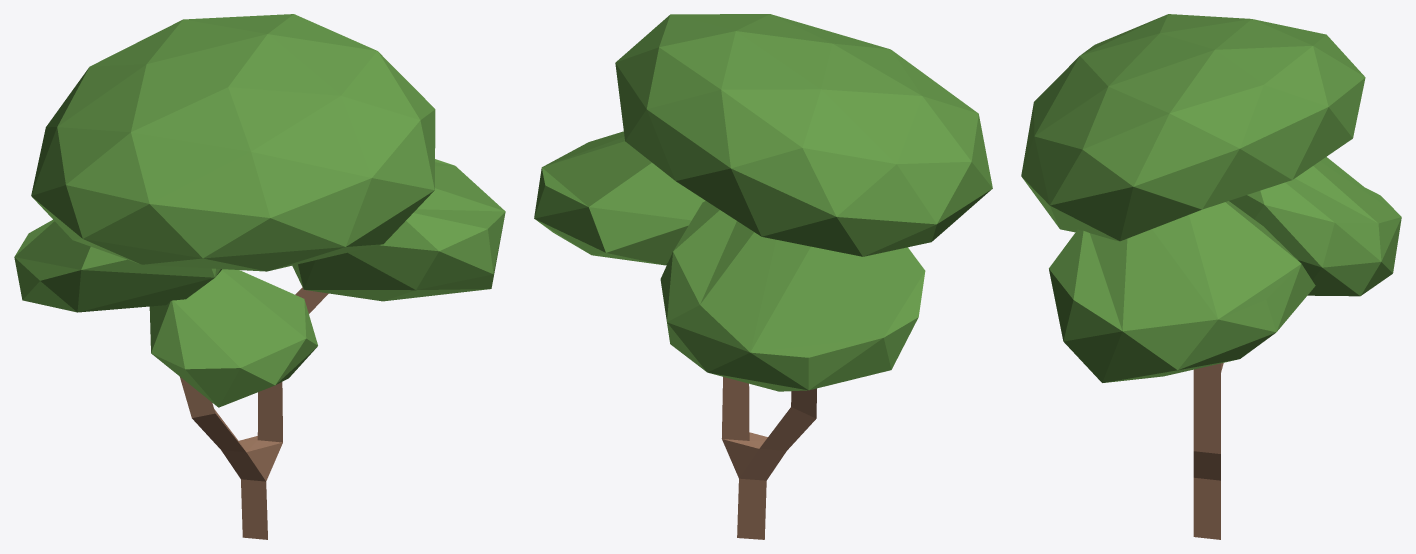
File: tree3.fbx
The picture shows the model from 3 angles, left to right: view 1: azimuth 30°, elevation 25°; view 2: azimuth 150°, elevation 25°; view 3: azimuth 270°, elevation 25°; orthographic projection. The views are drawn at different scales.
Parts seen in each view (by area): view 1: tree3; view 2: tree3; view 3: tree3.
Part boxes in pixels (x1,y1,x2,y2): tree3: (14,14,505,539); tree3: (534,14,992,539); tree3: (1021,14,1401,539).
Size of the model in its own units: 2.35 by 2.67 by 1.87.
